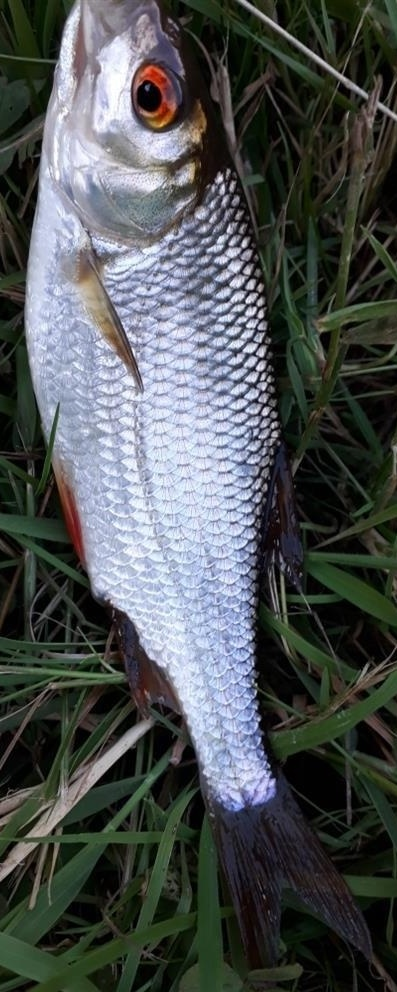Scardinius erythrophthalmus: (20, 1, 377, 972)
